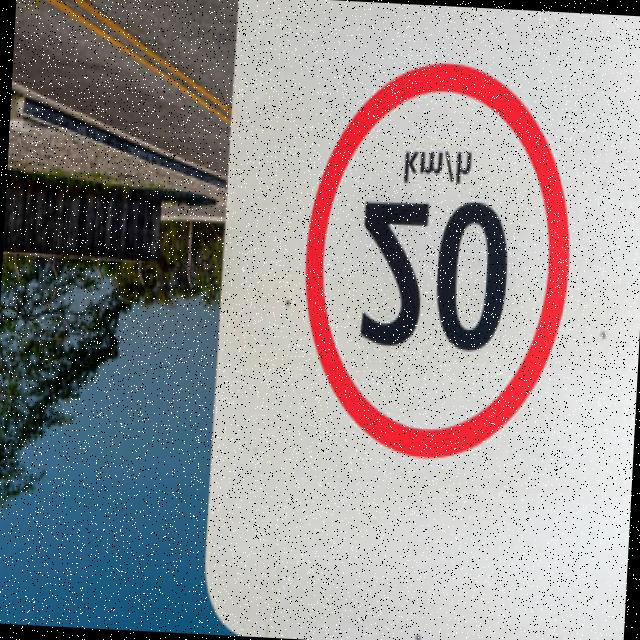speed_limit_20: (294, 53, 581, 476)
